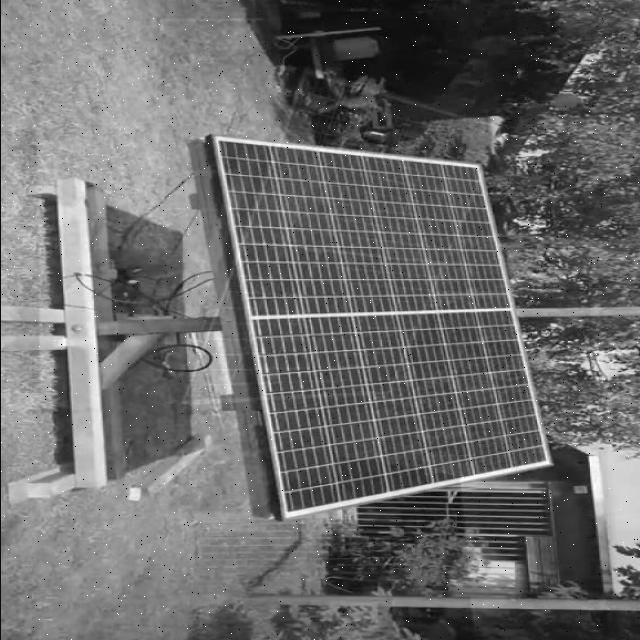Normal Solar Panel: (212, 138, 548, 520)
